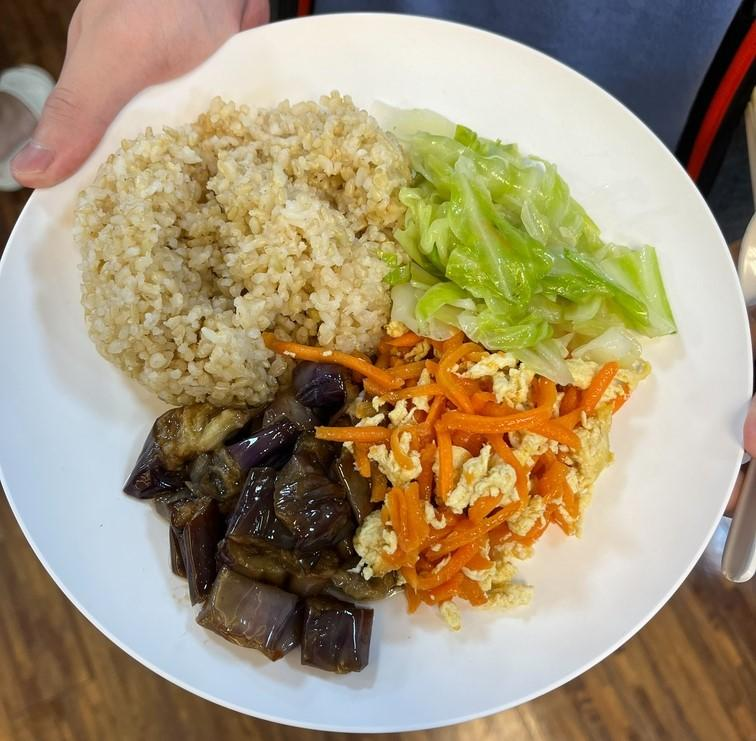big fried chicken leg: (4, 9, 756, 741)
box: (77, 84, 405, 408)
braised fish fillet: (122, 359, 375, 681), (353, 342, 632, 620), (394, 105, 680, 354)
